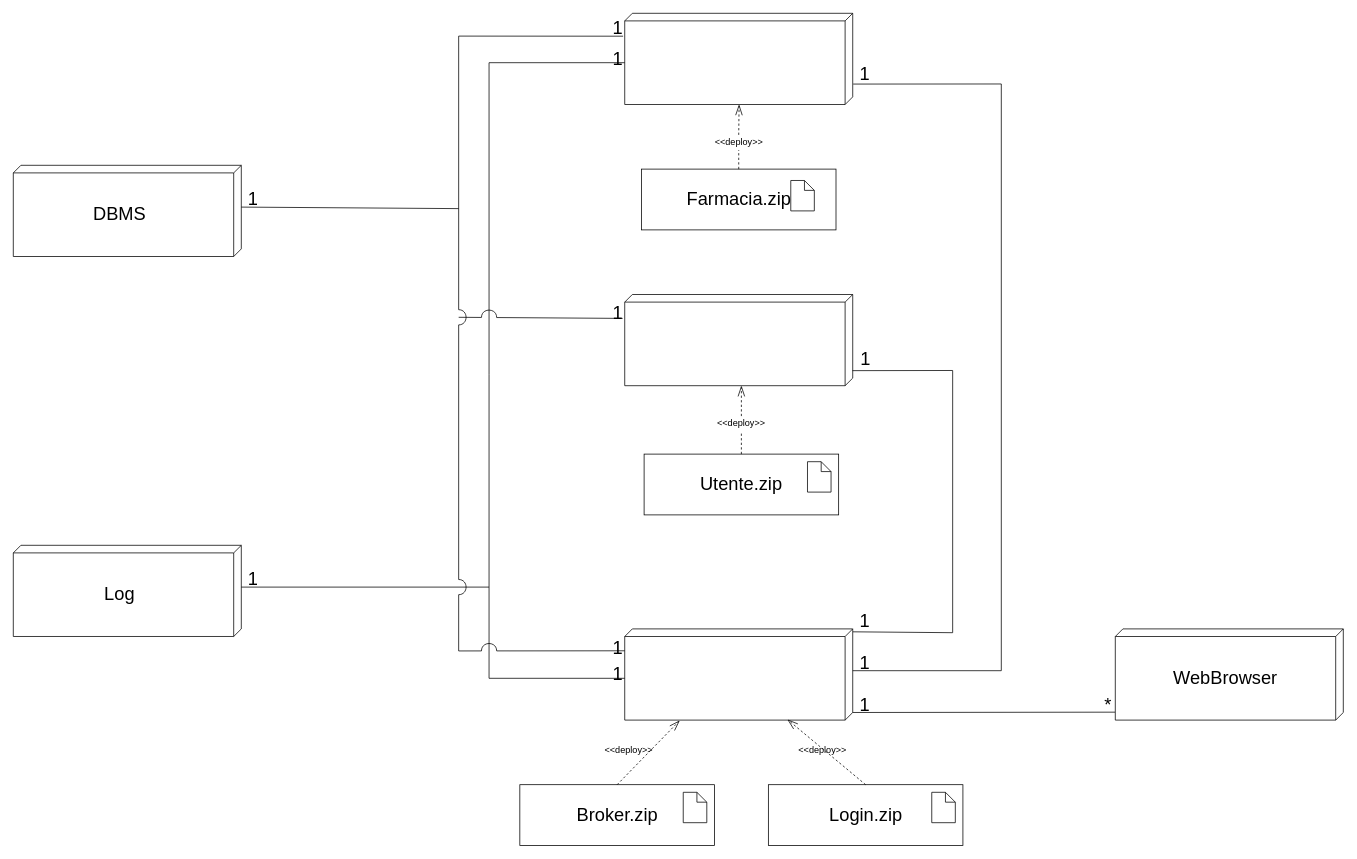
Image size: 1357x859. Some labels were removed from this diagram. Here are the shapes that lost their labels. From the top down, the centre of each, then its label:
At (738,58): "ServerFarmacia".
At (738,340): "ServerUtente".
At (738,674): "ServerBroker".
